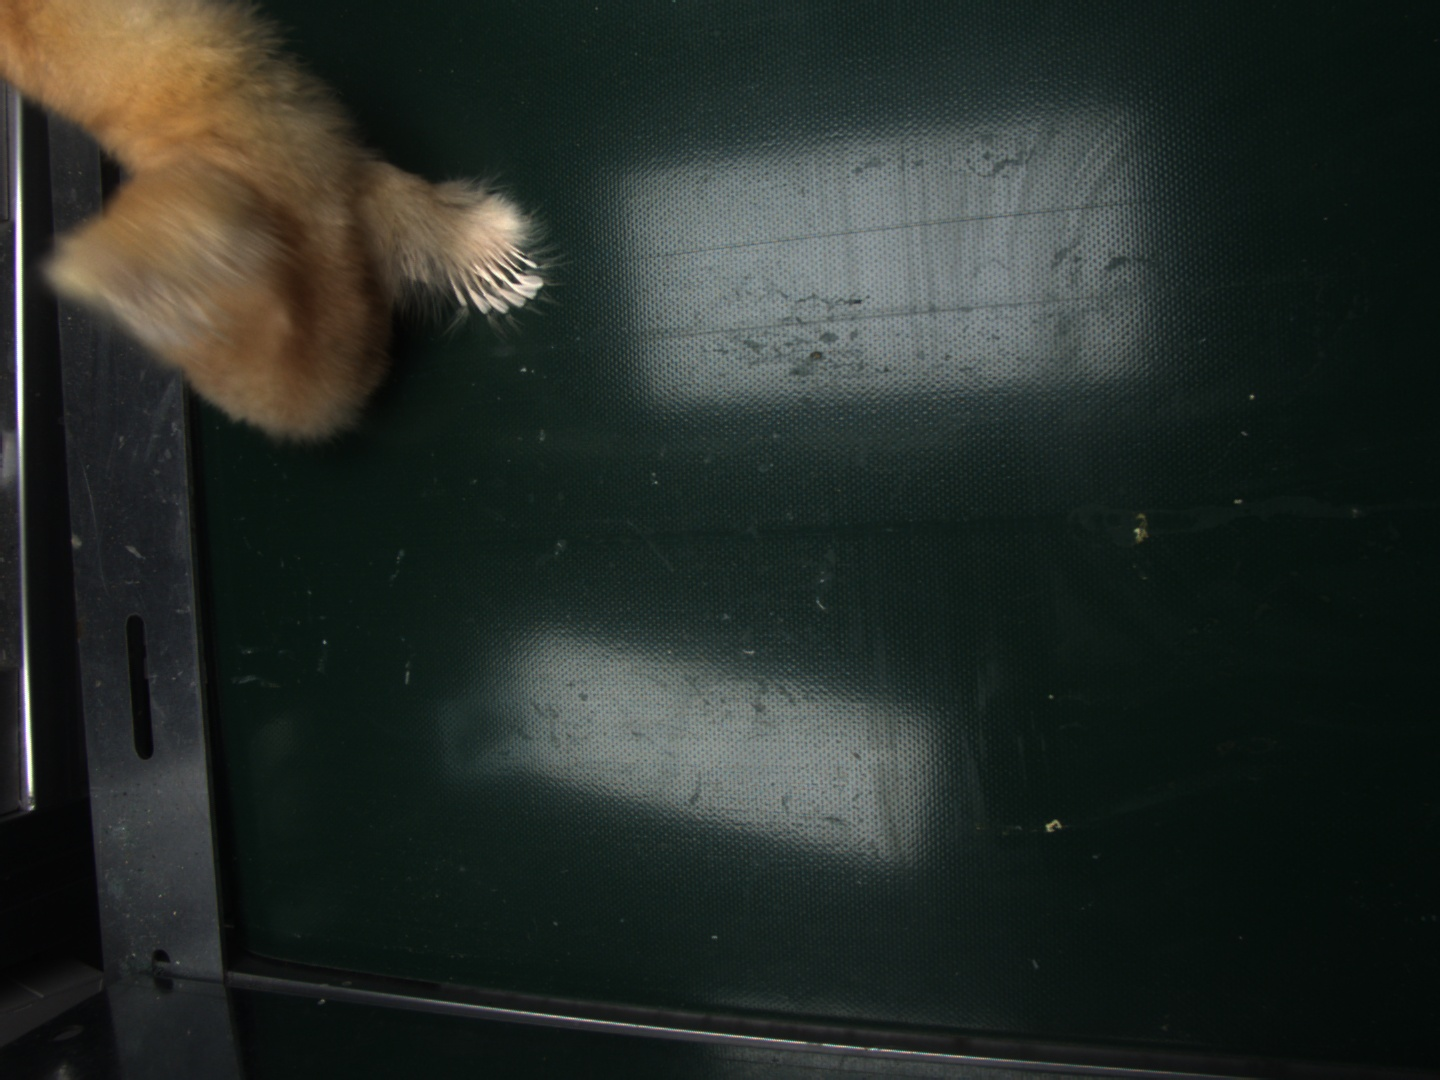female: (455, 241, 544, 314)
